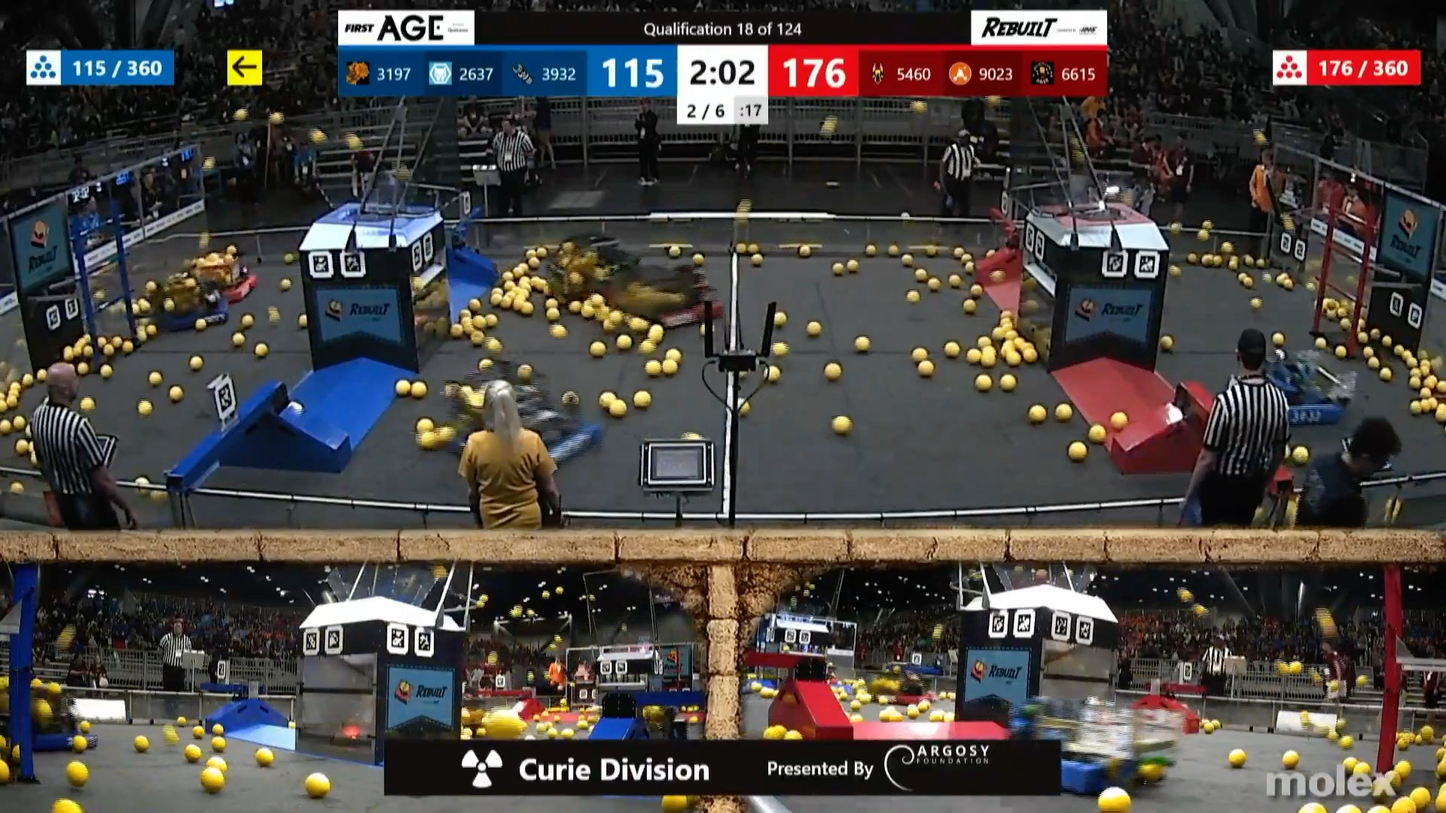bumpers: (481, 410, 611, 465), (587, 292, 734, 340), (1060, 748, 1175, 795), (149, 297, 244, 336), (14, 719, 96, 754), (192, 269, 270, 304), (1280, 402, 1345, 429), (861, 687, 938, 708)
